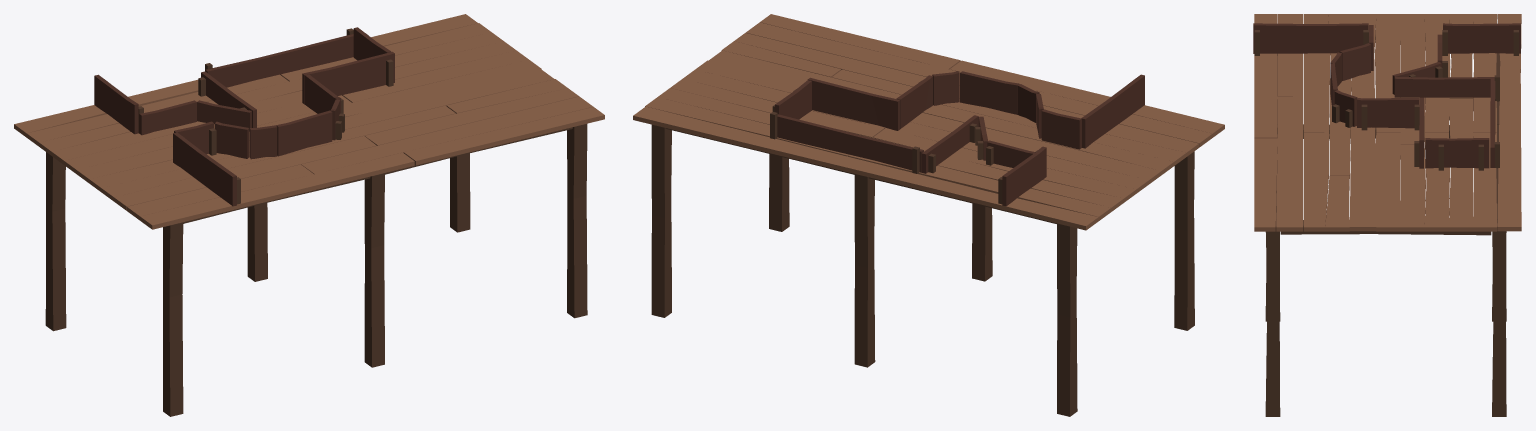
File: Table_1.fbx
The picture shows the model from 3 angles, left to right: view 1: azimuth 30°, elevation 25°; view 2: azimuth 150°, elevation 25°; view 3: azimuth 270°, elevation 25°; orthographic projection. The views are drawn at different scales.
Visible parts, largest first — view 1: Cube.095; view 2: Cube.095; view 3: Cube.095.
Part boxes in pixels (left/top/right/bottom): Cube.095: left=14, top=14, right=604, bottom=416; Cube.095: left=633, top=14, right=1224, bottom=416; Cube.095: left=1253, top=14, right=1521, bottom=416.
Bounding box in the file's own units: 3800 × 1855 × 2018.
